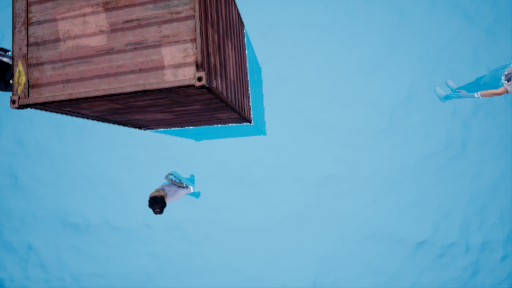person: (146, 166, 207, 219)
